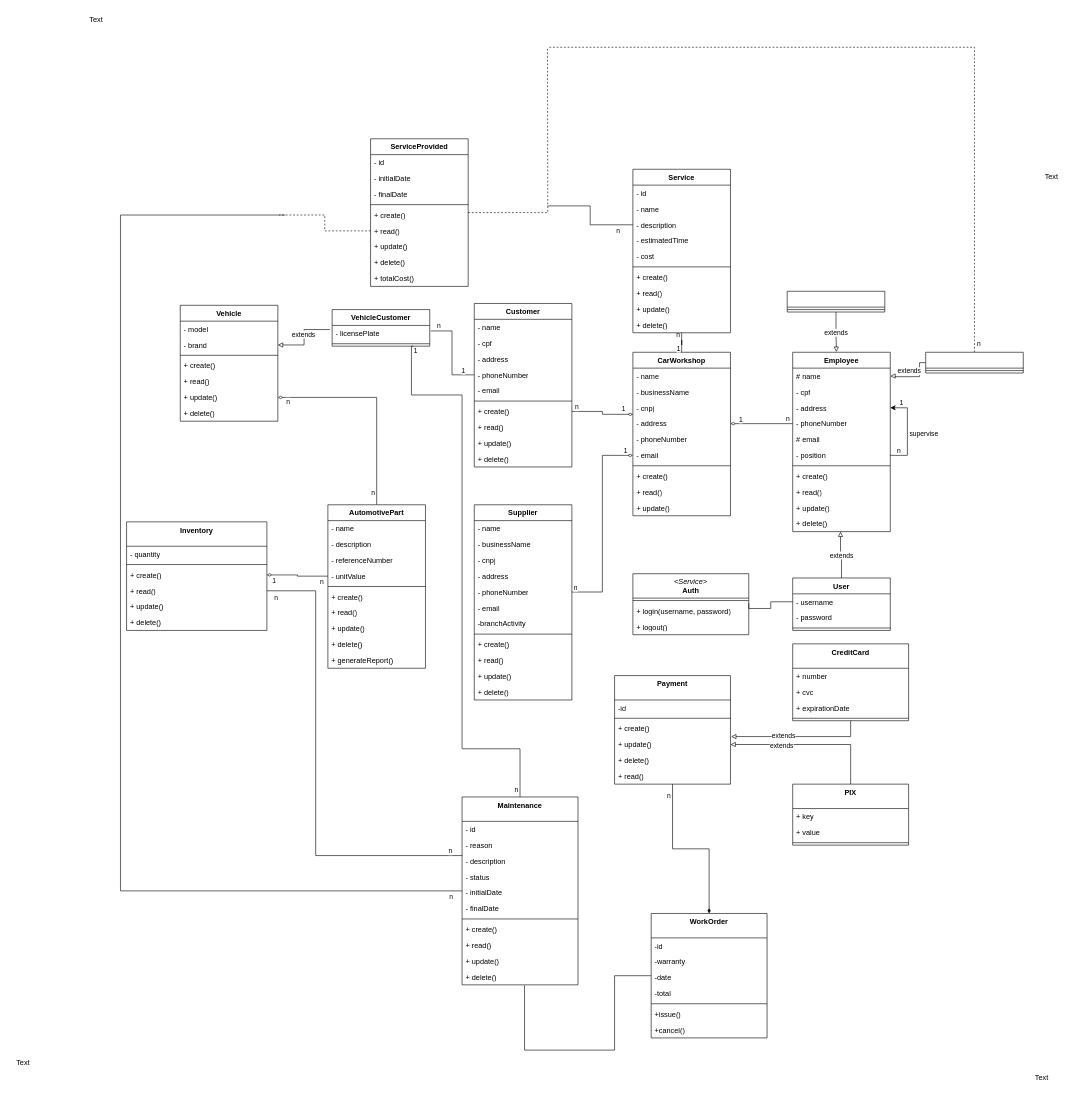
Some shapes in this 1074 by 1097 pixel diagram are drawn without their labels. Here are the shapes that lost their labels. From the top down, the centre of each, then its label:
At point (836, 301): "attendant".
At point (974, 362): "Mechanic".
